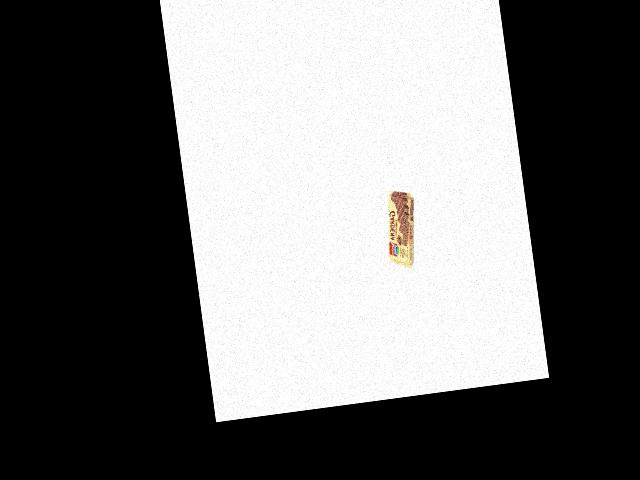chocolate: (378, 184, 419, 273)
